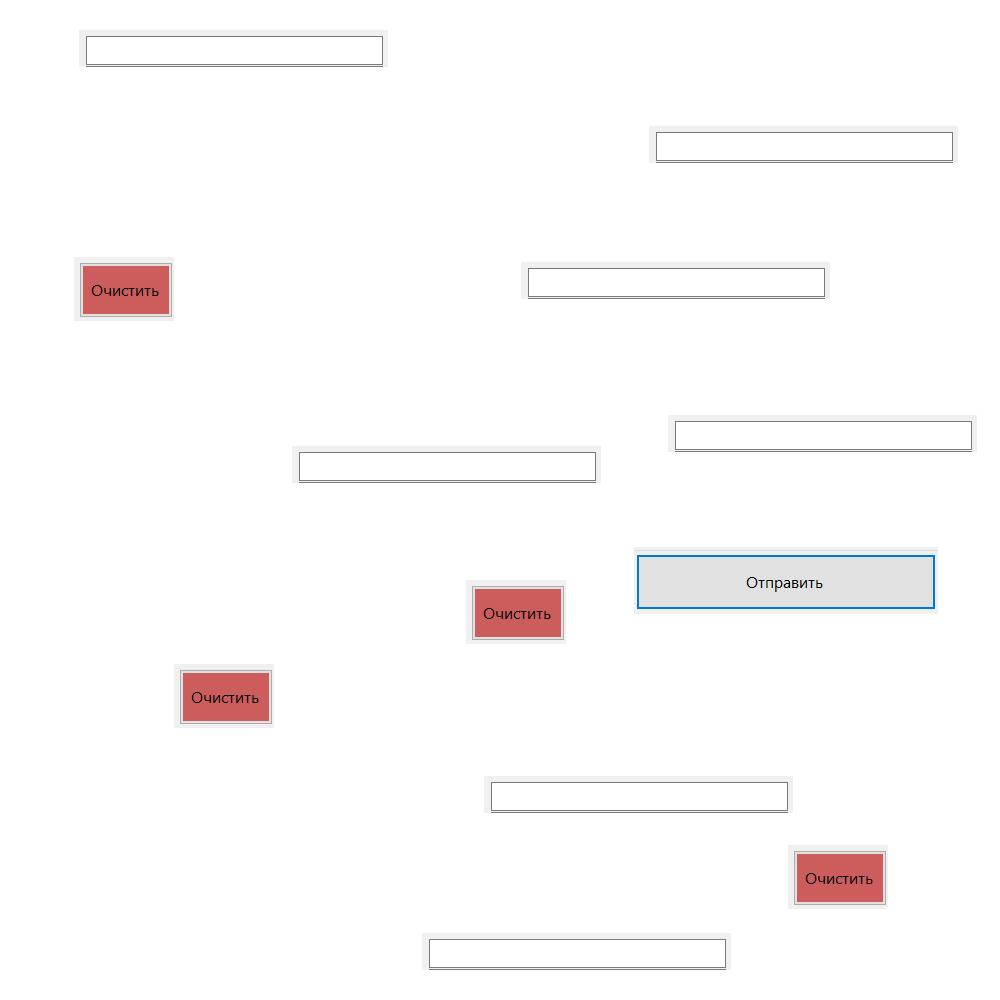Button: (634, 547, 938, 614), (74, 257, 174, 321), (174, 664, 274, 728), (788, 845, 888, 909), (466, 580, 566, 644)
EditText-: (649, 126, 958, 163), (484, 776, 793, 813), (422, 933, 731, 970), (668, 415, 977, 452), (79, 30, 388, 67), (292, 446, 601, 483), (521, 262, 830, 299)
